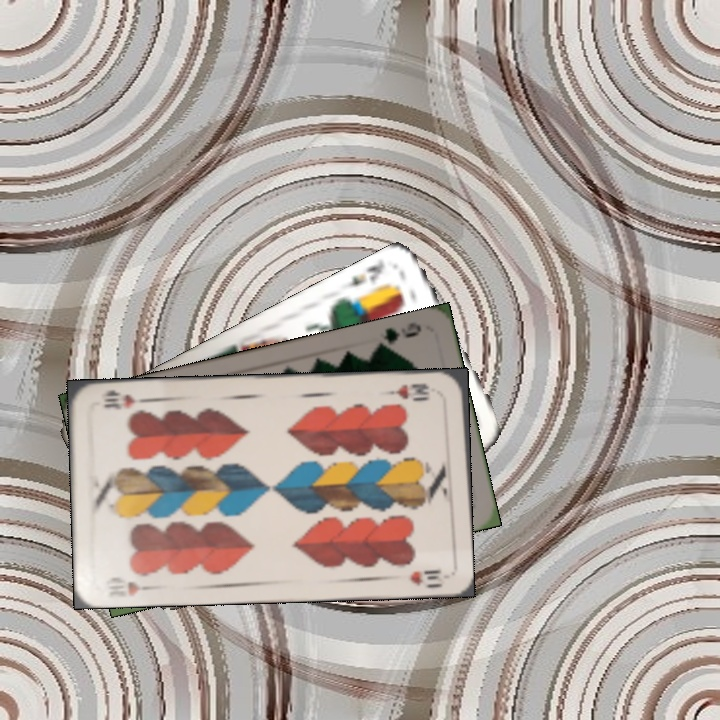EK: (340, 261, 387, 291)
G9: (371, 318, 424, 354)
H10: (102, 573, 158, 599), (383, 379, 433, 404)
